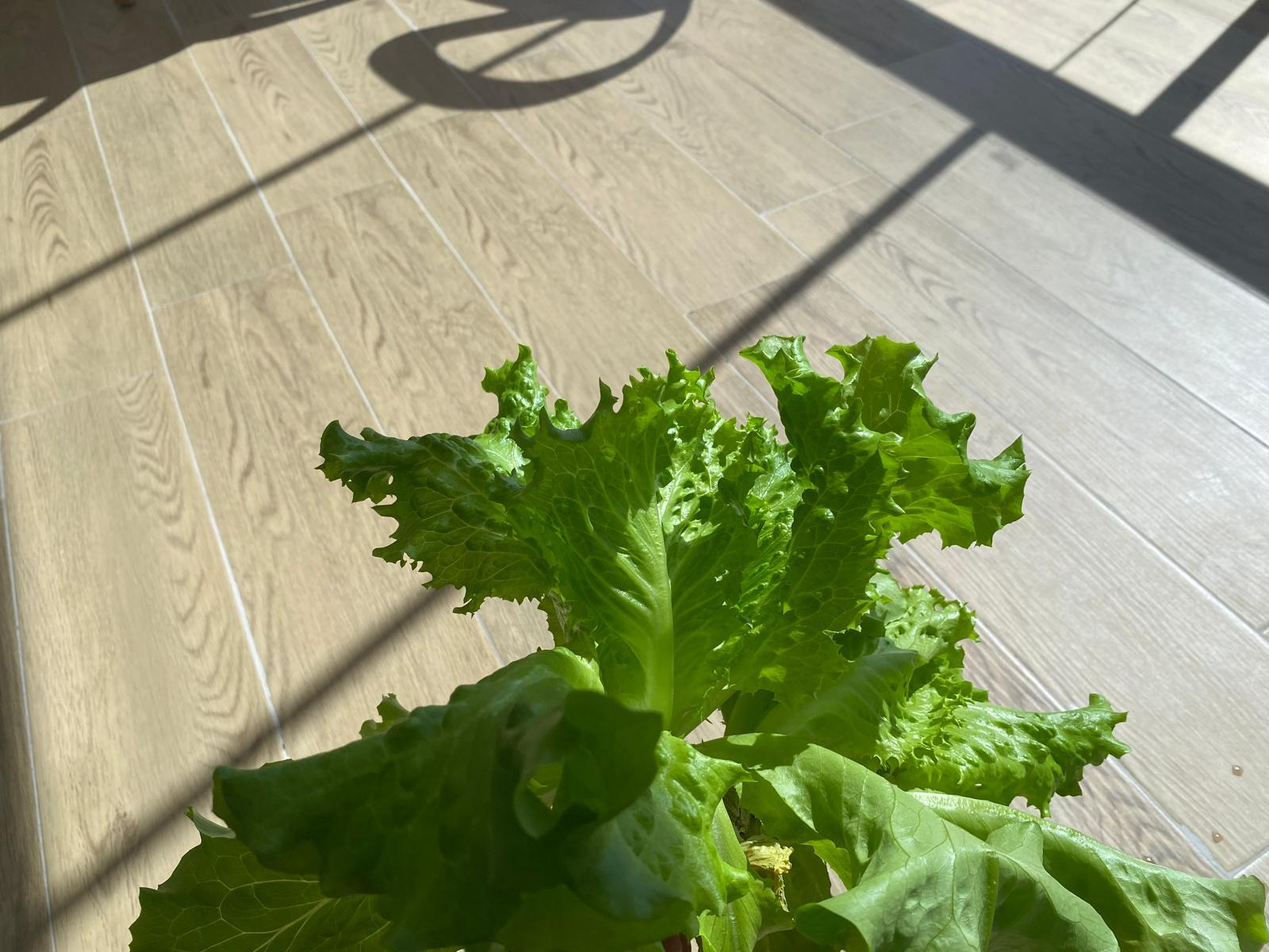Healthy: (129, 331, 1269, 952)
